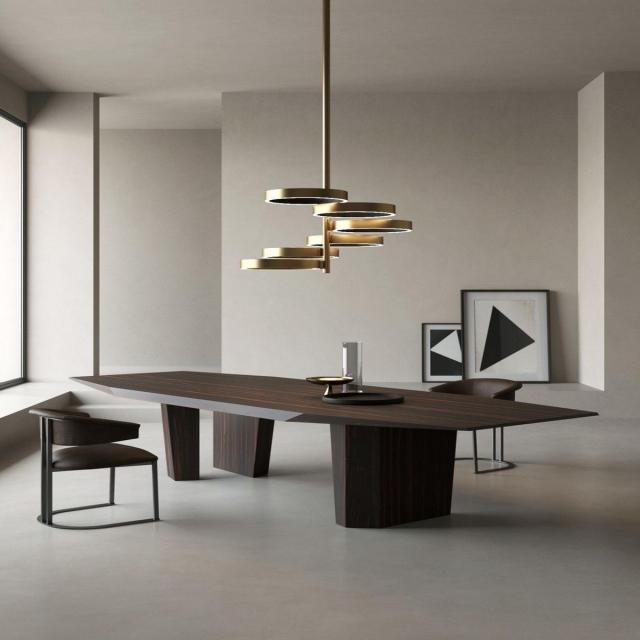table: (35, 331, 613, 567)
